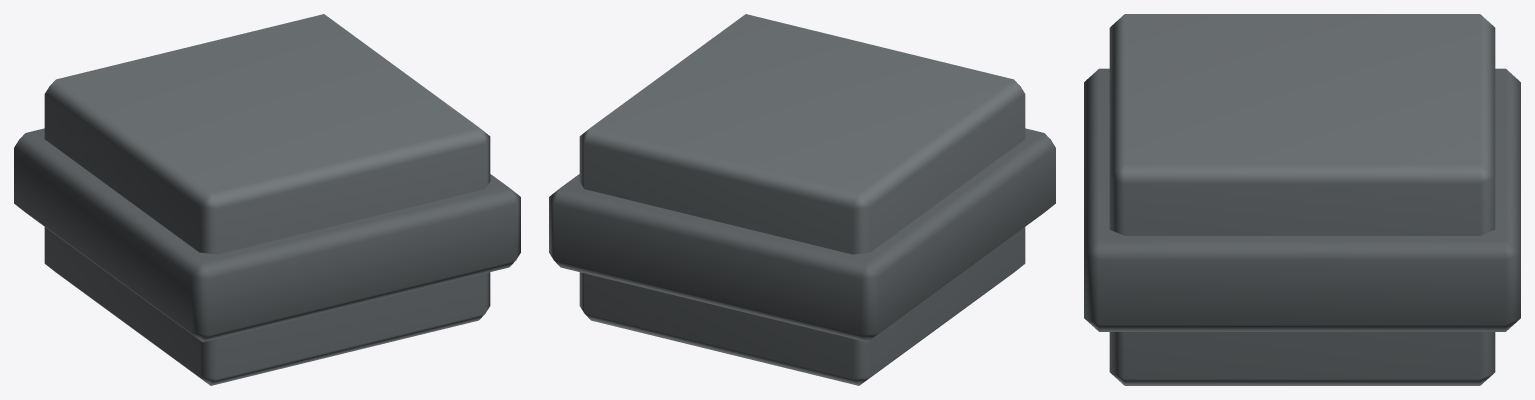
Rendered from pillar_cap_002.glb.
3 renders of one model, left to right at view 1: azimuth 30°, elevation 25°; view 2: azimuth 150°, elevation 25°; view 3: azimuth 270°, elevation 25°, orthographic. The views are drawn at different scales.
Visible parts, largest first — view 1: pillar_cap_002; view 2: pillar_cap_002; view 3: pillar_cap_002.
Boxes of the visible parts, x1,y1,x2,y2 form: pillar_cap_002: (14, 14, 520, 385); pillar_cap_002: (549, 14, 1055, 385); pillar_cap_002: (1084, 14, 1520, 385).
Size of the model in its own units: 3.62 by 2.03 by 3.62.
1 material, 1 textured.
